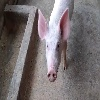heo: (36, 6, 71, 83)
